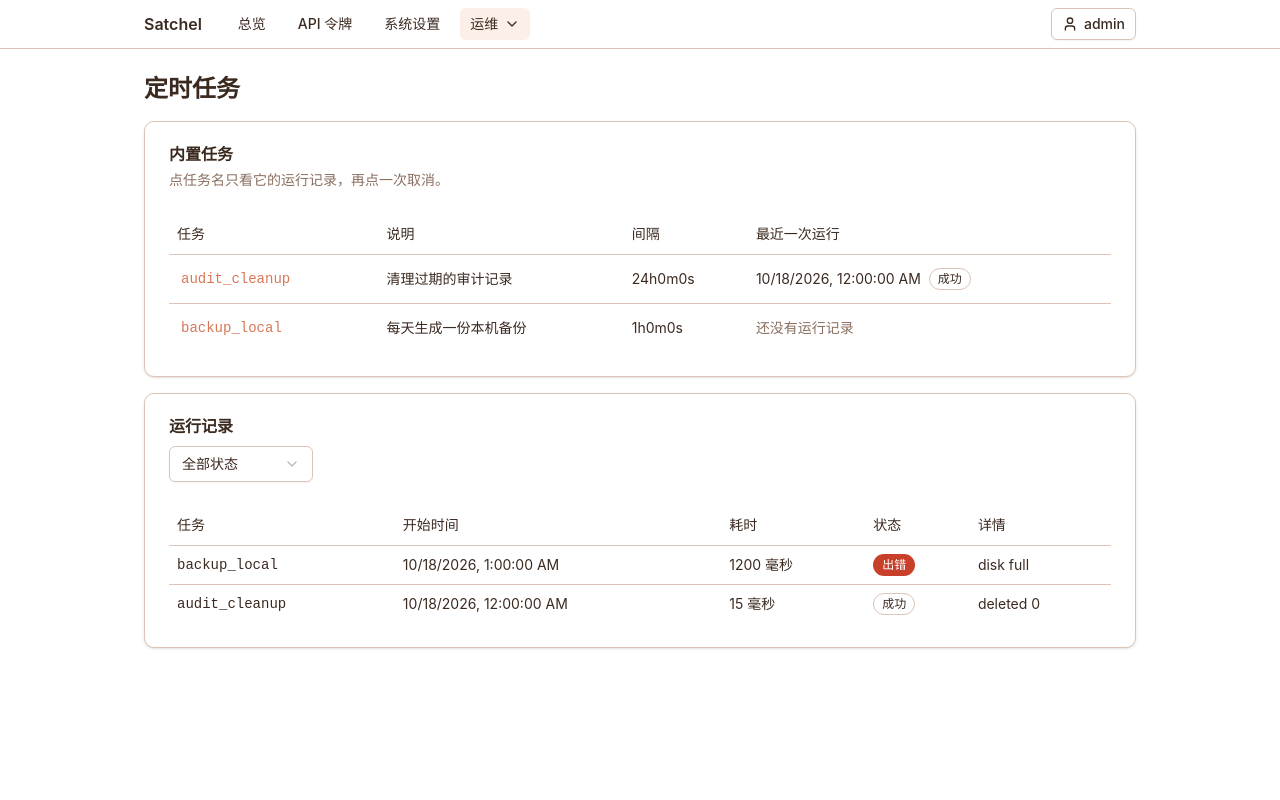
Test: 定时任务页 › 看一个任务的运行记录：点任务名后请求带 task，只显示它的记录；再点一次取消
Expected: the text "还没有运行记录" is shown, [756, 318, 854, 336]
Expected: the row with test id "run-2" is shown, [169, 546, 1111, 584]
Step 1. Click the button "audit_cleanup" → (236, 278), box [177, 262, 294, 294]
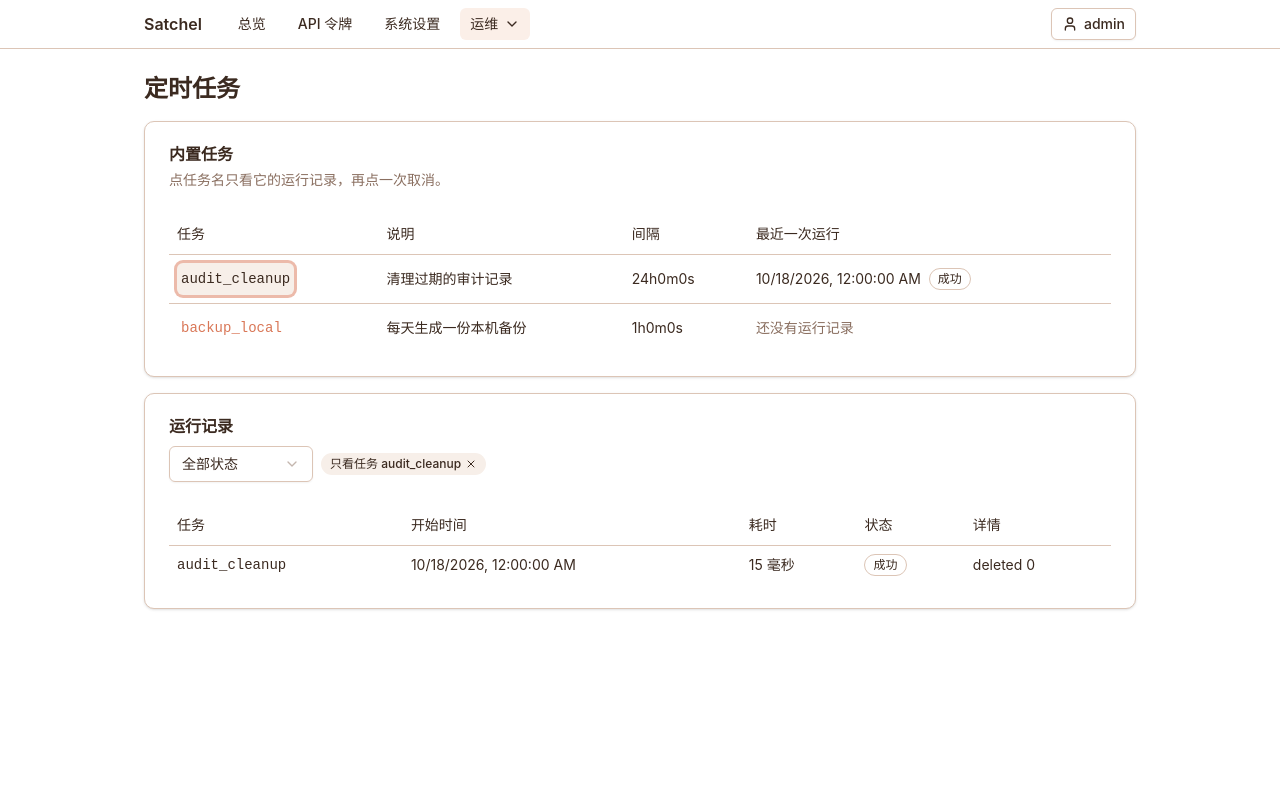
Expected: the row with test id "run-1" is shown, [169, 546, 1111, 584]
Expected: the row with test id "run-2" is gone
Step 2. Click the button "audit_cleanup" → (236, 278), box [177, 262, 294, 294]
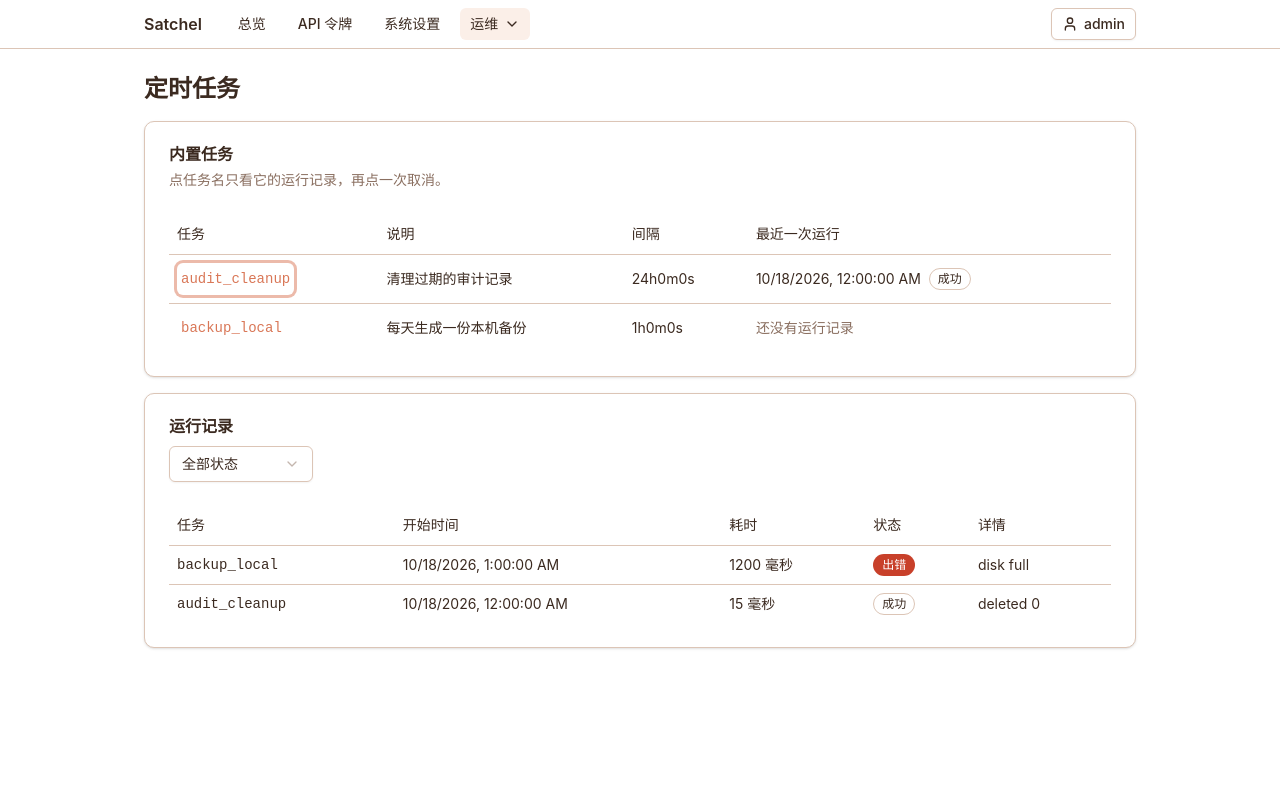
Expected: the row with test id "run-2" is shown, [169, 546, 1111, 584]
